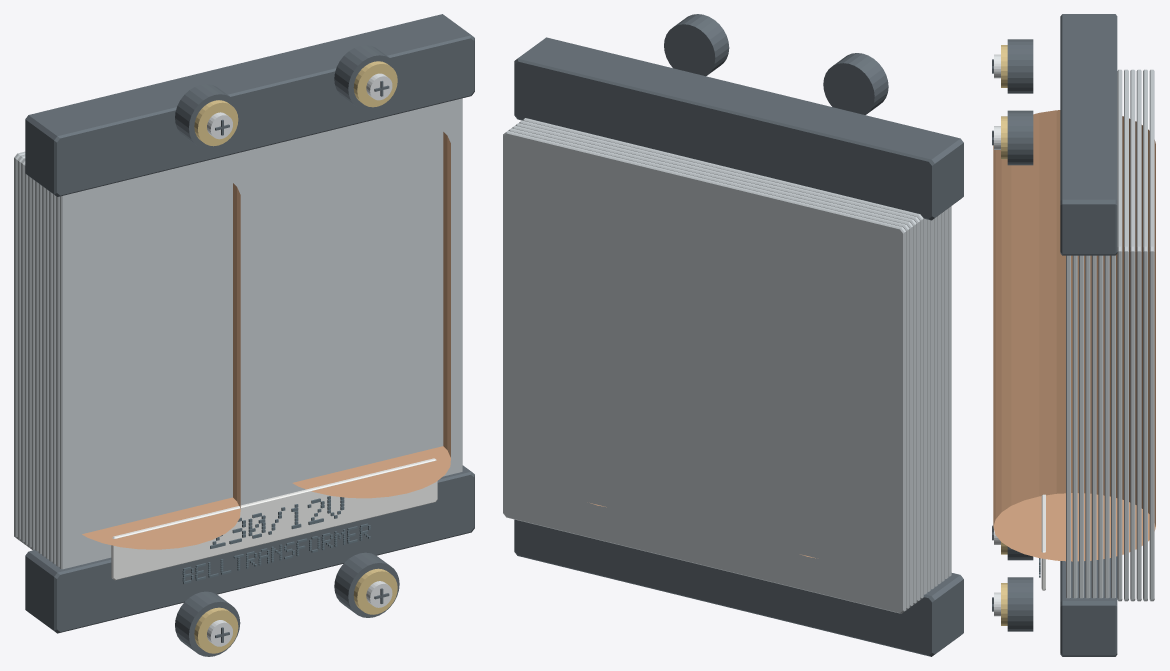
The model's file is bellTransformer.glb.
The picture shows the model from 3 angles, left to right: view 1: azimuth 30°, elevation 25°; view 2: azimuth 150°, elevation 25°; view 3: azimuth 270°, elevation 25°; orthographic projection. The views are drawn at different scales.
Parts seen in each view (by area): view 1: bellTransformer-detailed; view 2: bellTransformer-detailed; view 3: bellTransformer-detailed.
Part boxes in pixels (x1,y1,x2,y2): bellTransformer-detailed: (14, 14, 474, 656); bellTransformer-detailed: (503, 14, 963, 656); bellTransformer-detailed: (992, 14, 1155, 656).
Bounding box in the file's own units: 2.57 × 3.27 × 0.9411.
